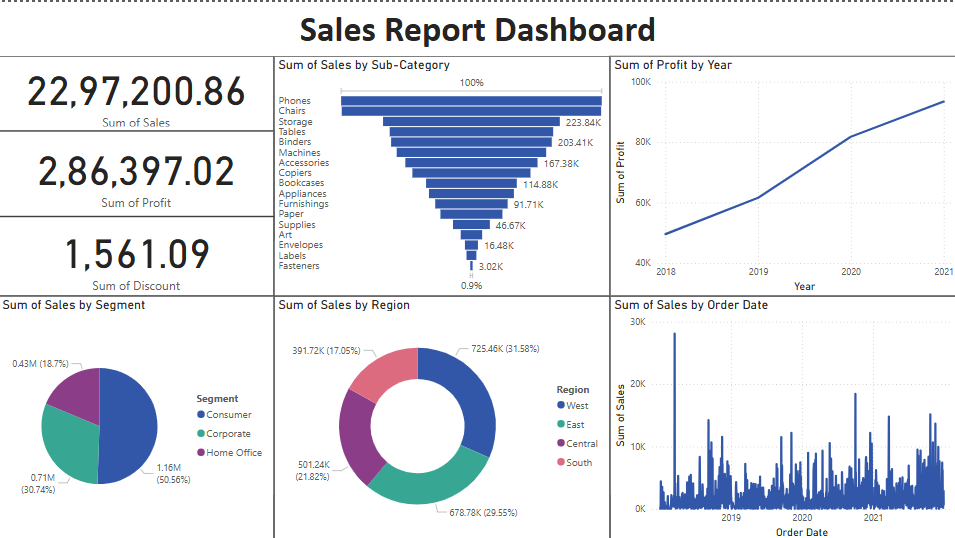

Layout of this report page (visuals, bound fields, positions):
{"tool":"powerbi","page":{"name":"Page 1","canvas":[1280,720],"ordinal":0},"visuals":[{"type":"card","fields":{"Values":["Sum(Salesreport.Sales)"]},"box":[0,72,368,100],"z":0},{"type":"card","fields":{"Values":["Sum(Salesreport.Profit)"]},"box":[0,172,368,114],"z":1000},{"type":"card","fields":{"Values":["Sum(Salesreport.Discount)"]},"box":[0,286,368,106],"z":2000},{"type":"donutChart","fields":{"Category":["Salesreport.Region"],"Y":["Sum(Salesreport.Sales)"]},"box":[368,392,448,328],"z":3000},{"type":"funnel","fields":{"Category":["Salesreport.Sub-Category"],"Y":["Sum(Salesreport.Sales)"]},"box":[368,72,448,320],"z":4000},{"type":"lineChart","fields":{"Category":["Salesreport.Order Date"],"Y":["Sum(Salesreport.Sales)"]},"box":[816,392,464,328],"z":5000},{"type":"pieChart","fields":{"Category":["Salesreport.Segment"],"Y":["Sum(Salesreport.Sales)"]},"box":[0,392,368,328],"z":6000},{"type":"lineChart","fields":{"Category":["Salesreport.Order Date.Variation.Date Hierarchy.Year"],"Y":["Sum(Salesreport.Profit)"]},"box":[816,72,464,320],"z":7000},{"type":"textbox","box":[0,0,1280,72],"z":8000}]}

Visuals, with their boxes in screenshot pixels (x1, y1, x2, y2), scaled from the page's 1280x720 canvas onto the 955x538 screenshot:
card - Sum(Salesreport.Sales): [left=0, top=54, right=275, bottom=129]
card - Sum(Salesreport.Profit): [left=0, top=129, right=275, bottom=214]
card - Sum(Salesreport.Discount): [left=0, top=214, right=275, bottom=293]
donutChart - Salesreport.Region x Sum(Salesreport.Sales): [left=275, top=293, right=609, bottom=537]
funnel - Salesreport.Sub-Category x Sum(Salesreport.Sales): [left=275, top=54, right=609, bottom=293]
lineChart - Salesreport.Order Date x Sum(Salesreport.Sales): [left=609, top=293, right=954, bottom=537]
pieChart - Salesreport.Segment x Sum(Salesreport.Sales): [left=0, top=293, right=275, bottom=537]
lineChart - Salesreport.Order Date.Variation.Date Hierarchy.Year x Sum(Salesreport.Profit): [left=609, top=54, right=954, bottom=293]
textbox: [left=0, top=0, right=954, bottom=54]
